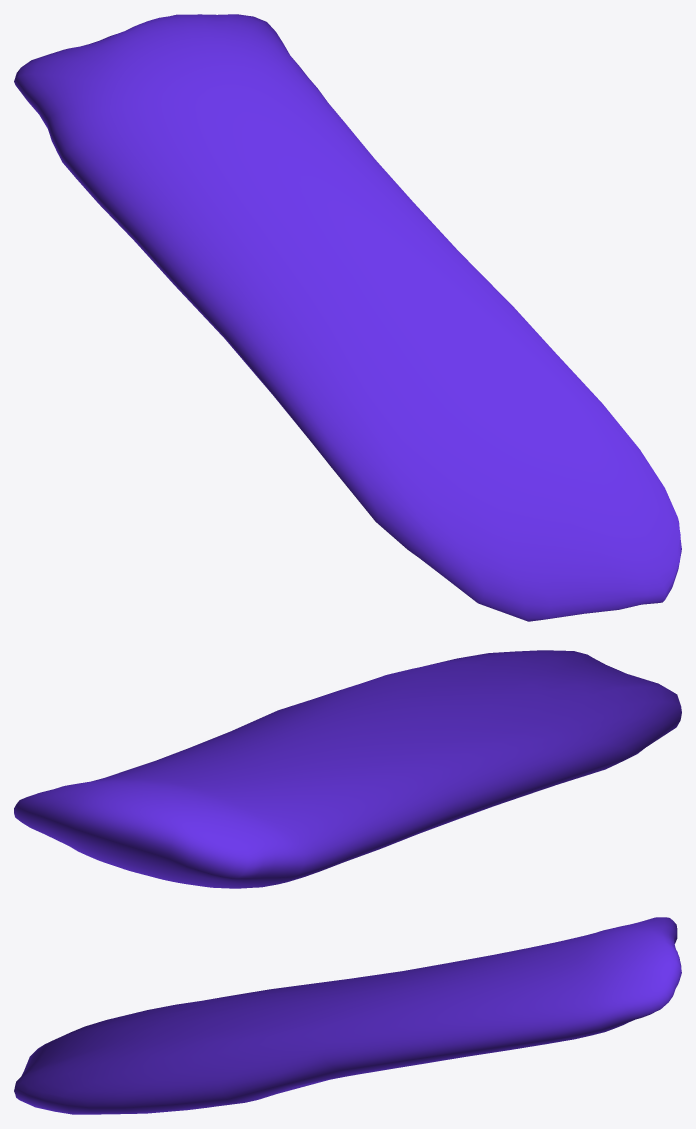
Rendered from Powder Liquid spread .fbx.
3 views of the same model, one above another, from view 1: azimuth 30°, elevation 25°; view 2: azimuth 150°, elevation 25°; view 3: azimuth 270°, elevation 25° (orthographic). The views are drawn at different scales.
Visible parts, largest first — view 1: Sphere; view 2: Sphere; view 3: Sphere.
Part boxes in pixels (left/top/right/bottom): Sphere: left=14, top=14, right=681, bottom=621; Sphere: left=14, top=650, right=681, bottom=888; Sphere: left=14, top=917, right=681, bottom=1114.
Size of the model in its own units: 87.47 by 71 by 283.
